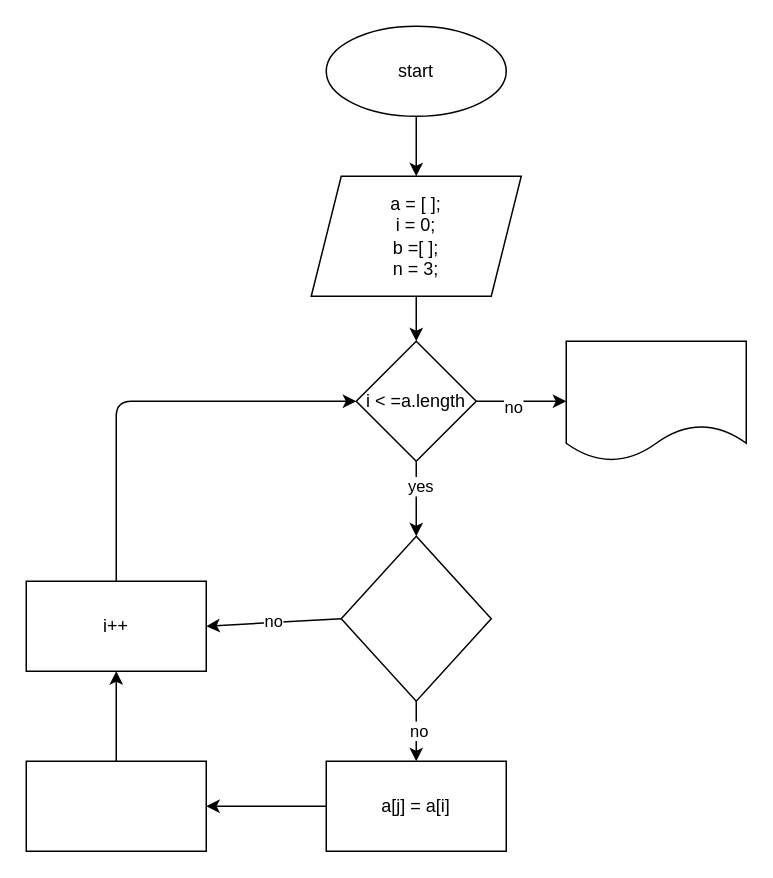
Image size: 773x878. Some labels were removed from this diagram. The centre of each missing label's shape, as x and y in pixels:
a[i].length<n: pixel 415 618
Console.Write (b): pixel 655 400
j++: pixel 115 805
